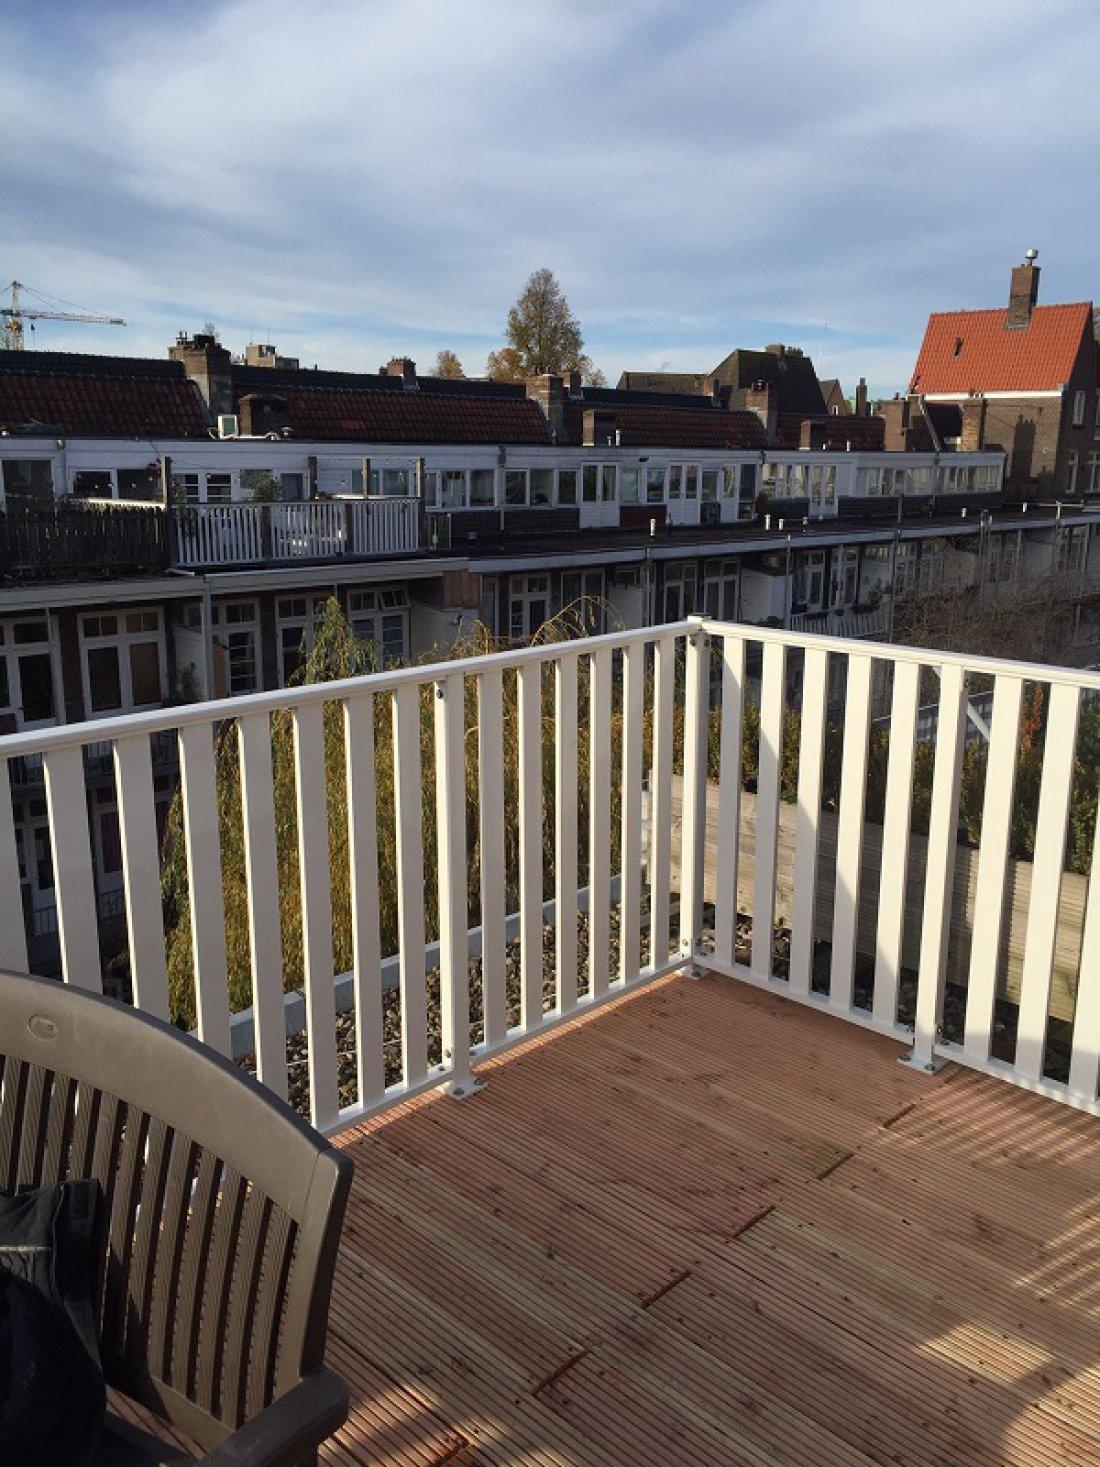obstacle: (0, 395, 975, 1466)
